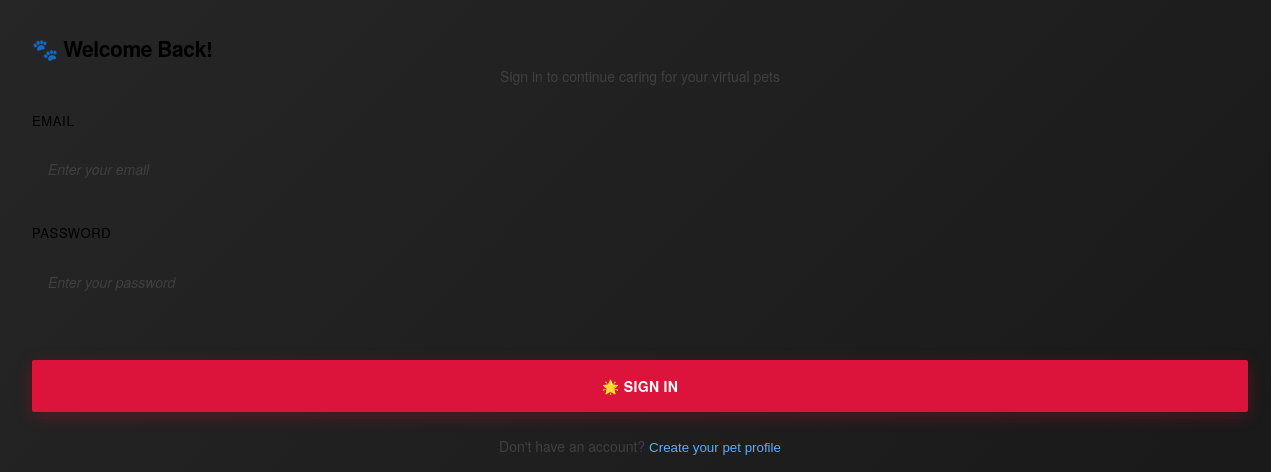
Test: LoginForm › disables submit button during submission
Type "test@example.com" into the field labelled "Email" at coordinates (640, 169), box [32,147,1248,191]
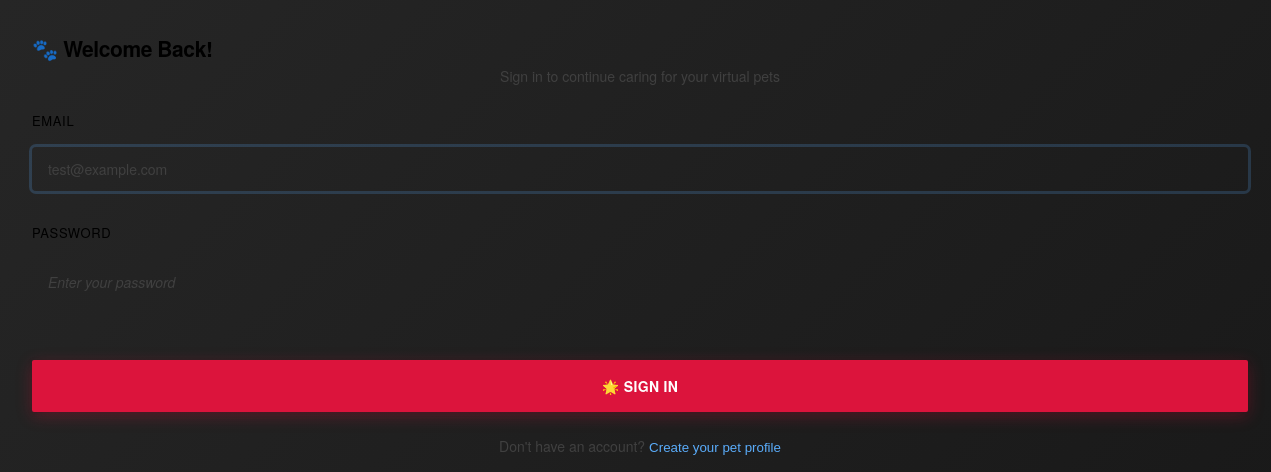
Type "password123" into the password field labelled "Password" at coordinates (640, 282), box [32,260,1248,304]
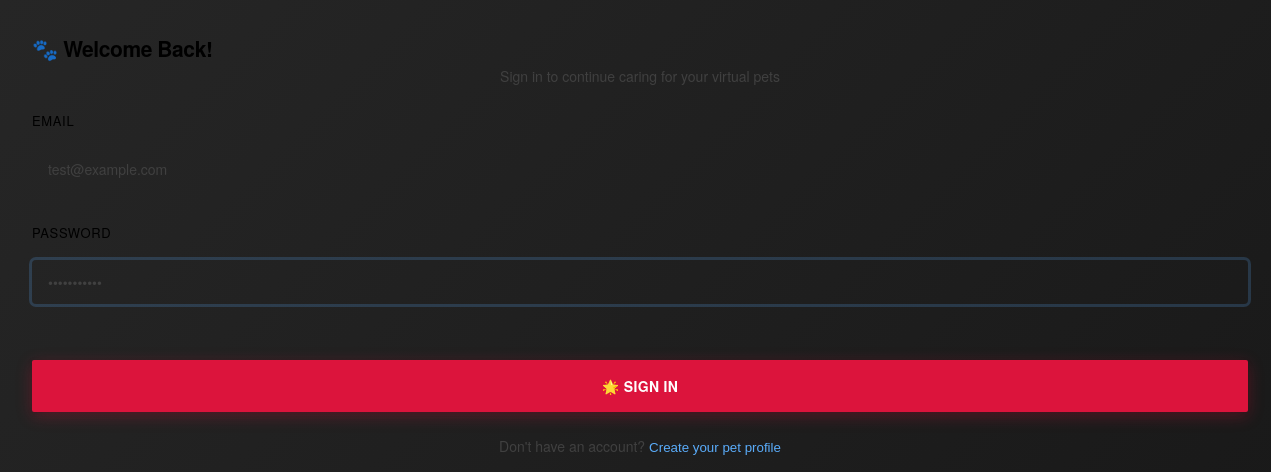
Click the button "🌟 Sign In" at coordinates (640, 386), box [32,360,1248,412]
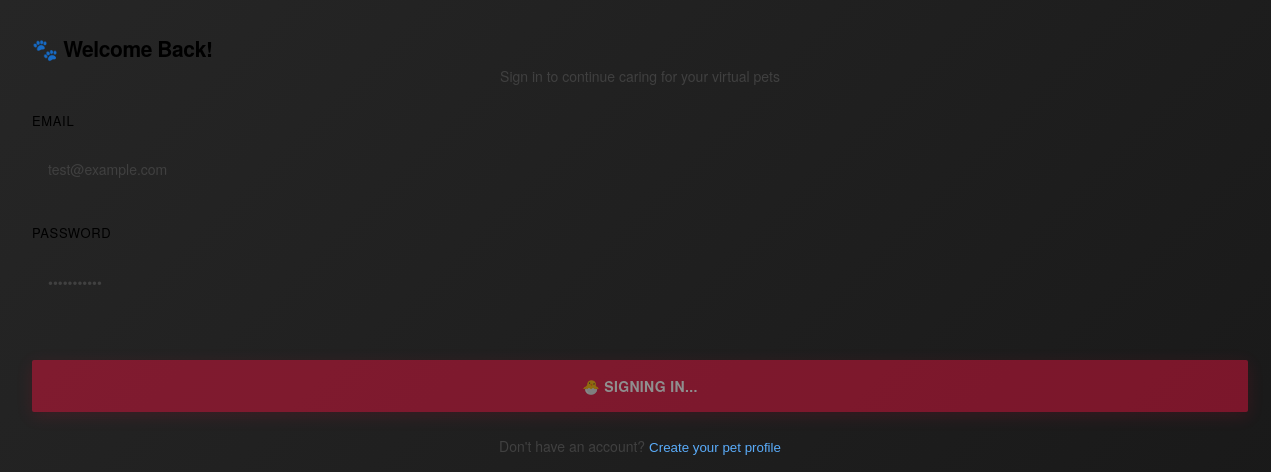
Check: the button named "sign in" is disabled, box [32,360,1248,412]
Check: the button named "sign in" shows "Signing in", box [32,360,1248,412]
